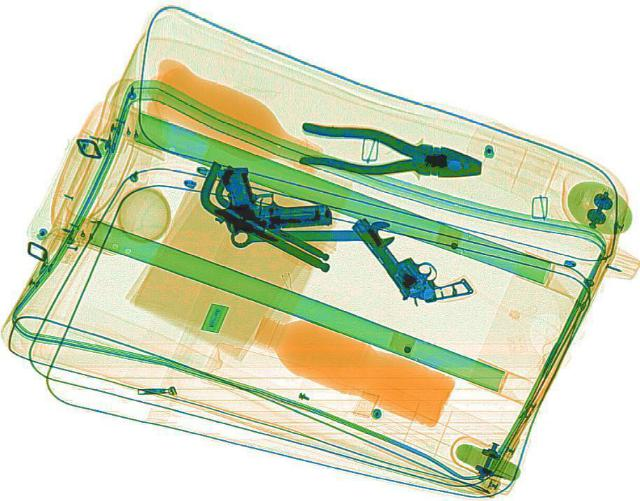Gun: (344, 199, 476, 314), (208, 160, 332, 233)
Pliers: (291, 119, 487, 187)
Wrench: (228, 219, 394, 250)
